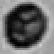correct: (0, 3, 54, 49)
